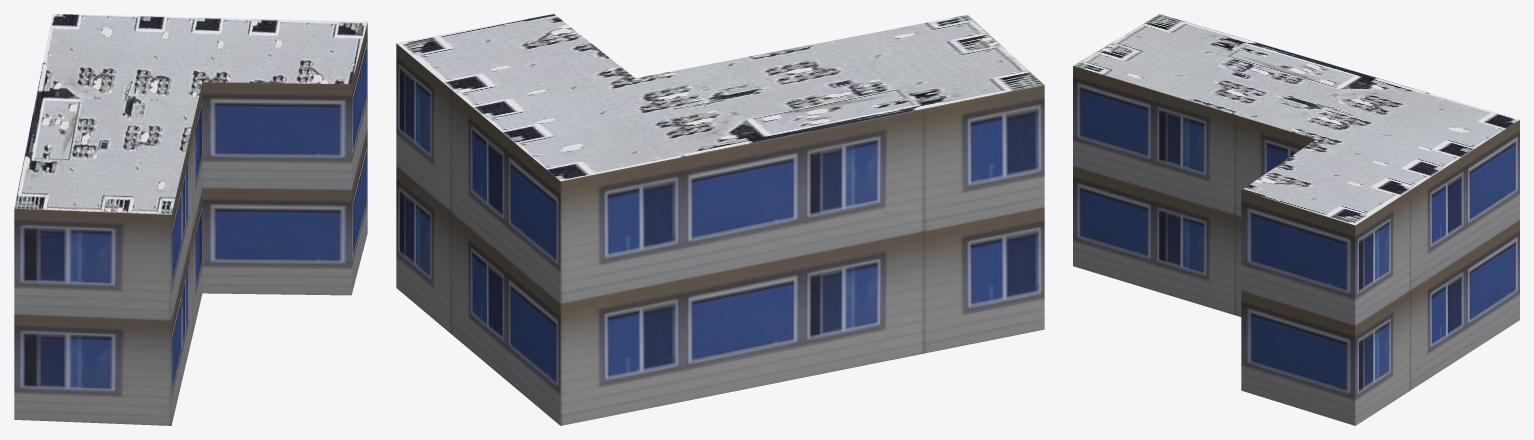
The model's file is ResTex__3208.fbx.
3 renders of one model, left to right at view 1: azimuth 30°, elevation 25°; view 2: azimuth 150°, elevation 25°; view 3: azimuth 270°, elevation 25°, orthographic. The views are drawn at different scales.
Parts seen in each view (by area): view 1: CityEngineMaterial_23_m, CityEngineMaterial_4_m; view 2: CityEngineMaterial_23_m, CityEngineMaterial_4_m; view 3: CityEngineMaterial_23_m, CityEngineMaterial_4_m.
Part boxes in pixels (x1,y1,x2,y2): CityEngineMaterial_23_m: (14, 23, 367, 425); CityEngineMaterial_4_m: (14, 14, 367, 214); CityEngineMaterial_23_m: (396, 43, 1044, 425); CityEngineMaterial_4_m: (397, 14, 1044, 181); CityEngineMaterial_23_m: (1073, 66, 1519, 425); CityEngineMaterial_4_m: (1073, 14, 1519, 225).
Bounding box in the file's own units: 13.58 × 6 × 12.12.
2 materials, 2 textured.
